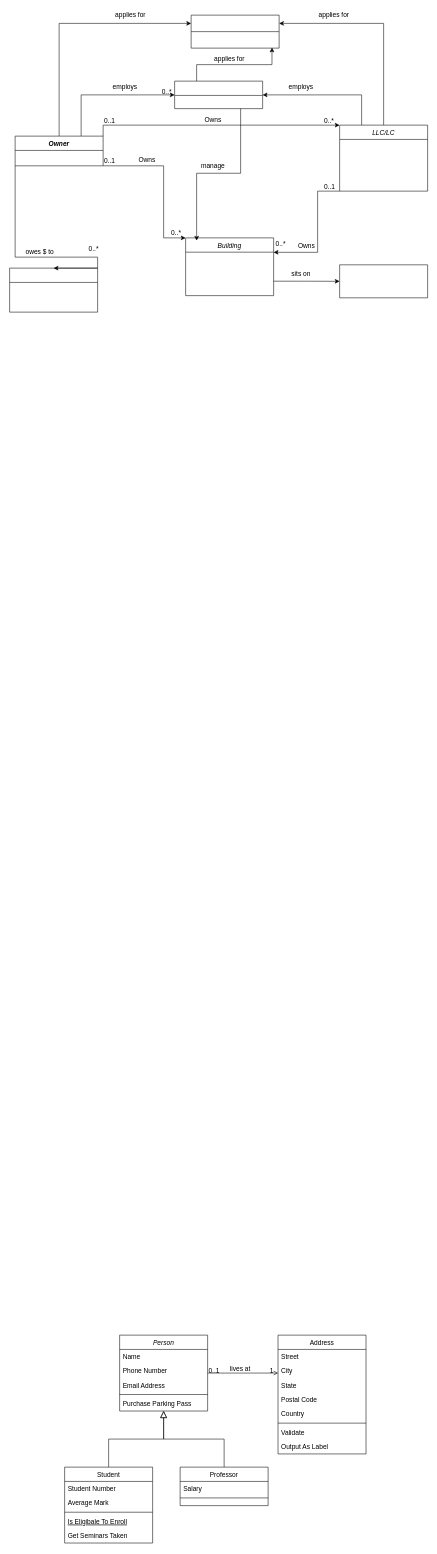
The diagram is 437 pixels wide and 1554 high, and some of its shapes have lost their labels. Here are the shapes that lost their labels. From the top down, the centre of each, then its label:
At (x=235, y=31): "Rental Aplication".
At (x=218, y=95): "Manager".
At (x=53, y=290): "Bank".
At (x=383, y=281): "Plot".
